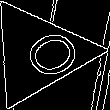O_SW: (2, 21, 76, 85)
